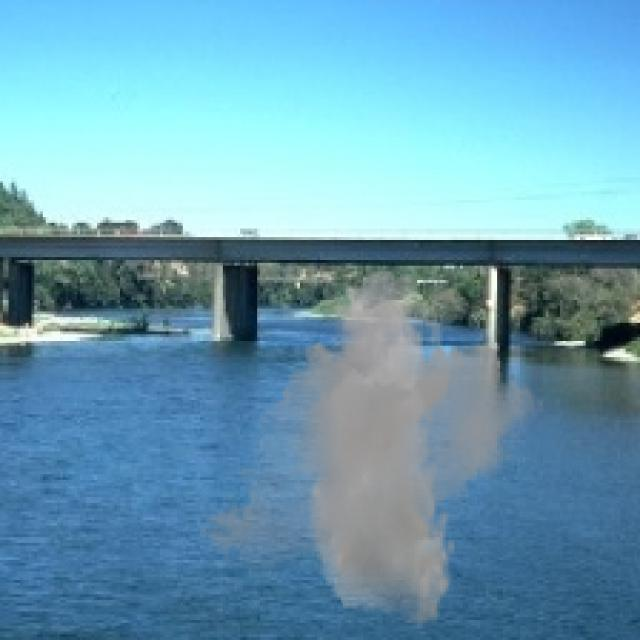Smoke: (197, 268, 546, 628)
